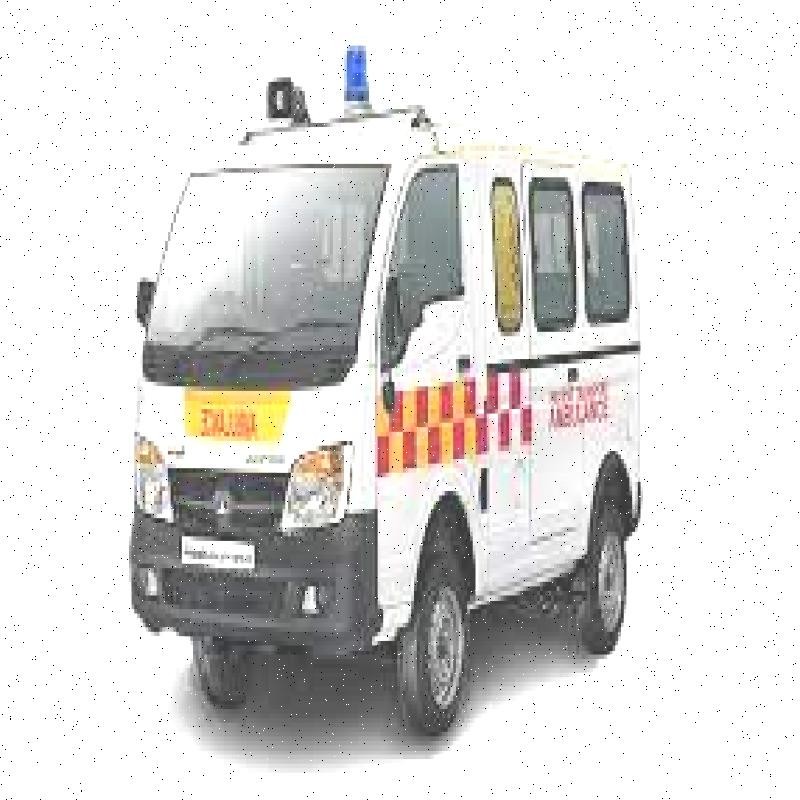AmbulanceSiren: (334, 36, 378, 126)
ambulance: (114, 11, 658, 738)
